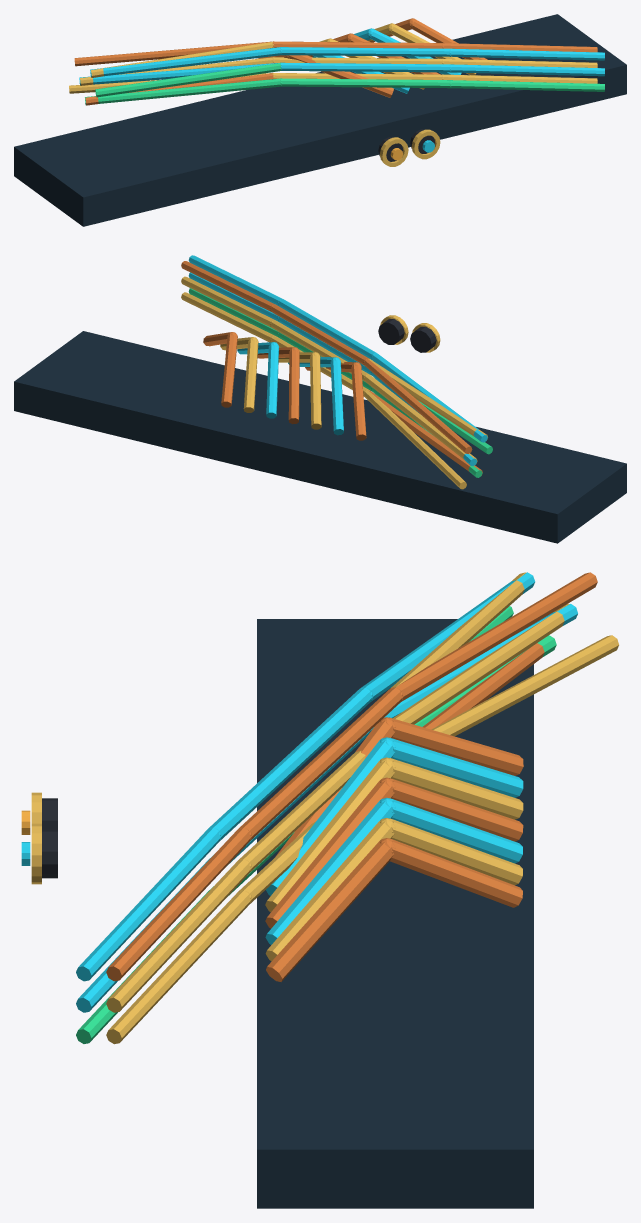
The model's file is 21_L82_CableRoutingTray.fbx.
3 views of the same model, one above another, from view 1: azimuth 30°, elevation 25°; view 2: azimuth 150°, elevation 25°; view 3: azimuth 270°, elevation 25° (orthographic). The views are drawn at different scales.
Visible parts, largest first — view 1: CableRoutingTray, CableRoutingTray_Part_0047, CableRoutingTray_Part_0065, CableRoutingTray_Part_0062, CableRoutingTray_Part_0059; view 2: CableRoutingTray, CableRoutingTray_Part_0046, CableRoutingTray_Part_0049, CableRoutingTray_Part_0052, CableRoutingTray_Part_0055, CableRoutingTray_Part_0058, CableRoutingTray_Part_0064, CableRoutingTray_Part_0061; view 3: CableRoutingTray, CableRoutingTray_Part_0065, CableRoutingTray_Part_0064, CableRoutingTray_Part_0052, CableRoutingTray_Part_0046, CableRoutingTray_Part_0049, CableRoutingTray_Part_0058, CableRoutingTray_Part_0061, CableRoutingTray_Part_0055, CableRoutingTray_Part_0053, CableRoutingTray_Part_0056, CableRoutingTray_Part_0059 (+3 smaller).
Boxes of the visible parts, bbox=[...] form: CableRoutingTray: bbox=[14, 14, 626, 226]; CableRoutingTray_Part_0047: bbox=[288, 55, 393, 97]; CableRoutingTray_Part_0065: bbox=[410, 19, 487, 59]; CableRoutingTray_Part_0062: bbox=[390, 24, 476, 75]; CableRoutingTray_Part_0059: bbox=[369, 29, 461, 74]; CableRoutingTray: bbox=[14, 255, 626, 543]; CableRoutingTray_Part_0046: bbox=[351, 364, 366, 440]; CableRoutingTray_Part_0049: bbox=[330, 359, 343, 435]; CableRoutingTray_Part_0052: bbox=[310, 354, 321, 429]; CableRoutingTray_Part_0055: bbox=[288, 349, 299, 424]; CableRoutingTray_Part_0058: bbox=[266, 344, 278, 418]; CableRoutingTray_Part_0064: bbox=[221, 334, 237, 407]; CableRoutingTray_Part_0061: bbox=[243, 339, 258, 412]; CableRoutingTray: bbox=[21, 572, 618, 1208]; CableRoutingTray_Part_0065: bbox=[266, 841, 393, 981]; CableRoutingTray_Part_0064: bbox=[390, 838, 522, 907]; CableRoutingTray_Part_0052: bbox=[390, 758, 523, 819]; CableRoutingTray_Part_0046: bbox=[389, 717, 523, 775]; CableRoutingTray_Part_0049: bbox=[389, 737, 523, 797]; CableRoutingTray_Part_0058: bbox=[389, 798, 522, 863]; CableRoutingTray_Part_0061: bbox=[389, 818, 522, 885]; CableRoutingTray_Part_0055: bbox=[389, 778, 523, 841]; CableRoutingTray_Part_0053: bbox=[265, 760, 394, 912]; CableRoutingTray_Part_0056: bbox=[265, 780, 394, 928]; CableRoutingTray_Part_0059: bbox=[265, 800, 394, 944].
Size of the model in its own units: 290 by 53.5 by 138.
